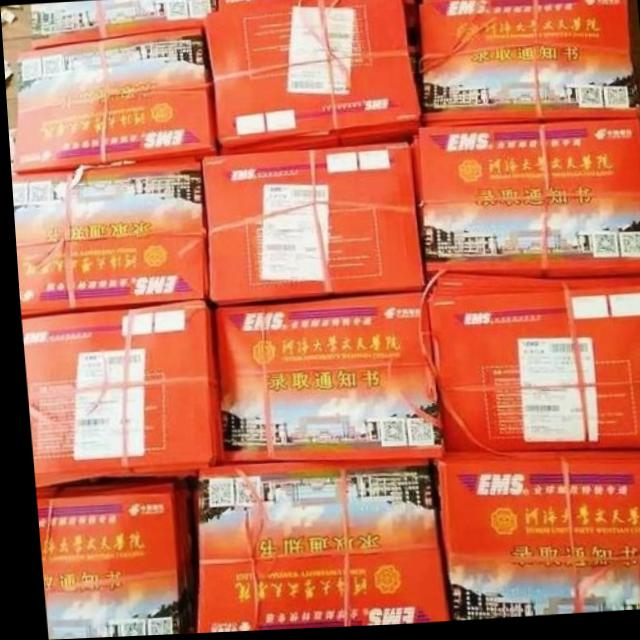box: (189, 465, 442, 635), (208, 294, 432, 462), (19, 301, 218, 486), (408, 123, 640, 281), (422, 289, 640, 455), (431, 457, 640, 624), (200, 147, 420, 303), (203, 0, 419, 153), (9, 157, 203, 313), (10, 27, 213, 174), (419, 0, 638, 123), (31, 483, 184, 640), (29, 0, 218, 48)
